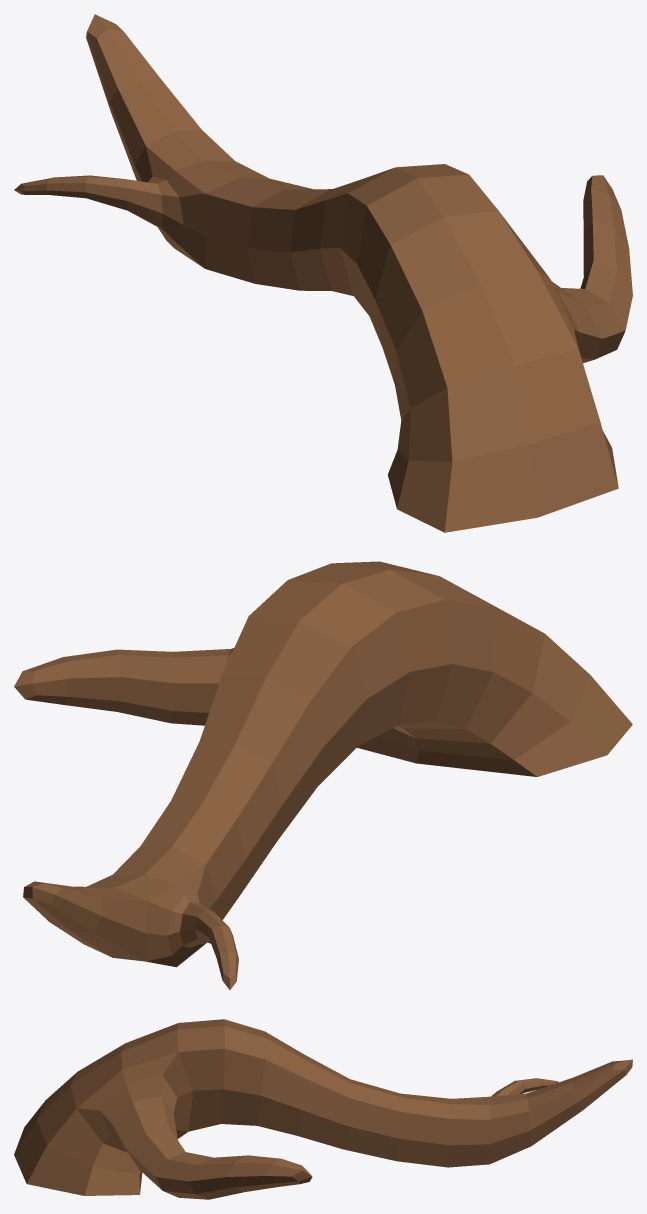
The model's file is korzen_przeszkoda.fbx.
3 views of the same model, one above another, from view 1: azimuth 30°, elevation 25°; view 2: azimuth 150°, elevation 25°; view 3: azimuth 270°, elevation 25° (orthographic). The views are drawn at different scales.
Visible parts, largest first — view 1: Cube; view 2: Cube; view 3: Cube.
Boxes of the visible parts, x1=… form: Cube: x1=14, y1=14, x2=632, y2=532; Cube: x1=14, y1=561, x2=632, y2=989; Cube: x1=14, y1=1019, x2=632, y2=1199.
Size of the model in its own units: 1973 by 1022 by 4050.
